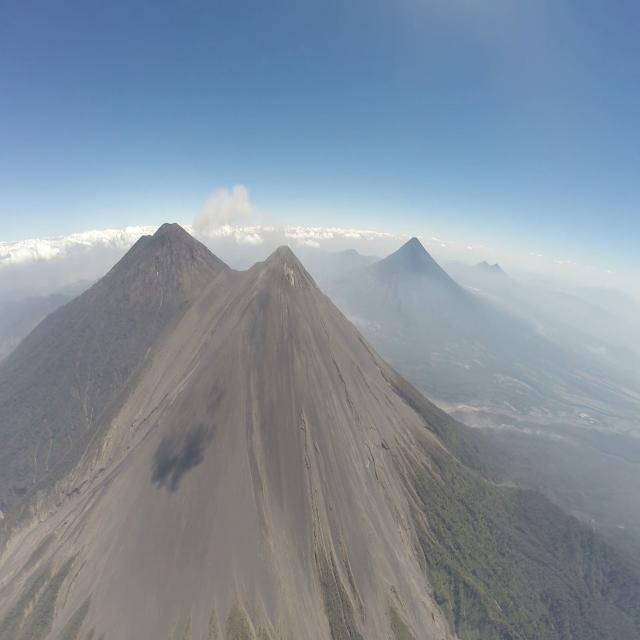Plume: (196, 180, 260, 244)
Summit: (248, 242, 324, 293)
